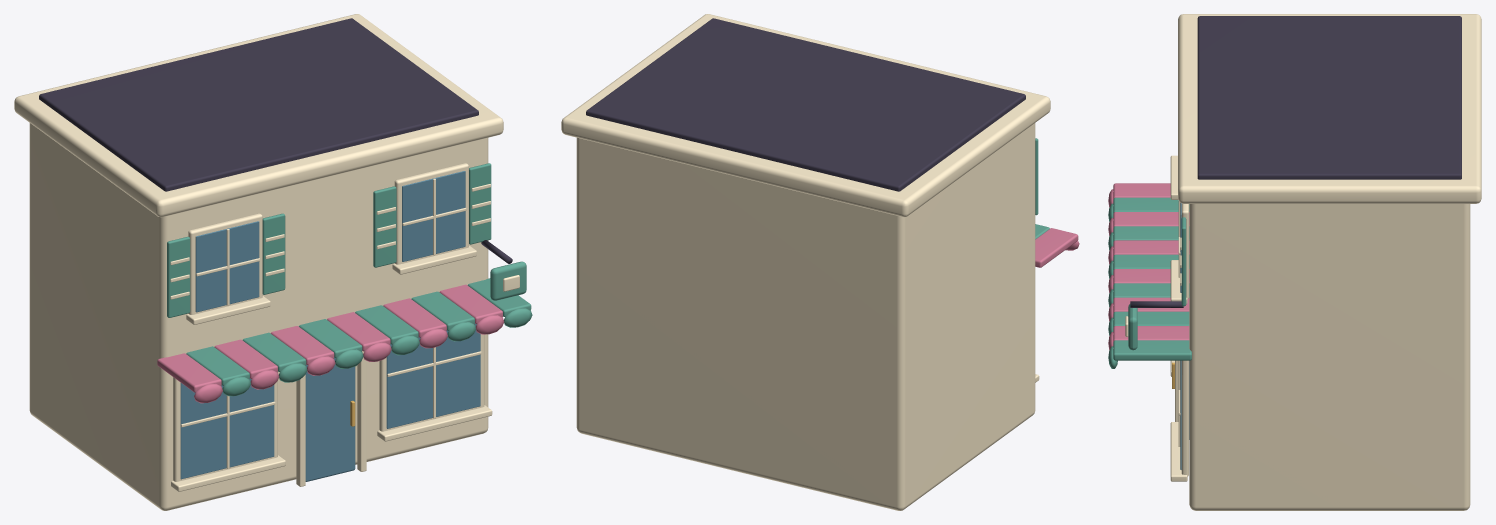
File: Garden_cafe.fbx
3 renders of one model, left to right at view 1: azimuth 30°, elevation 25°; view 2: azimuth 150°, elevation 25°; view 3: azimuth 270°, elevation 25°, orthographic. The views are drawn at different scales.
Parts seen in each view (by area): view 1: Town_Garden_cafe Shop walls.001, Town_Garden_cafe Roof inset.001, Town_Garden_cafe Shop cornice.001, Town_Garden_cafe Window glass.004, Town_Garden_cafe Window glass.006, Town_Garden_cafe Shop door.001, Town_Garden_cafe Window glass.005, Town_Garden_cafe Window glass.007, Town_Garden_cafe Shutter.004, Town_Garden_cafe Shutter.005, Town_Garden_cafe Shutter.006, Town_Garden_cafe Shutter.007 (+23 smaller); view 2: Town_Garden_cafe Shop walls.001, Town_Garden_cafe Roof inset.001, Town_Garden_cafe Shop cornice.001, Town_Garden_cafe Striped awning.012; view 3: Town_Garden_cafe Shop walls.001, Town_Garden_cafe Roof inset.001, Town_Garden_cafe Shop cornice.001, Town_Garden_cafe Striped awning.023, Town_Garden_cafe Striped awning.016, Town_Garden_cafe Striped awning.014, Town_Garden_cafe Striped awning.015, Town_Garden_cafe Striped awning.021, Town_Garden_cafe Striped awning.022, Town_Garden_cafe Striped awning.013, Town_Garden_cafe Striped awning.017, Town_Garden_cafe Window surround.006 (+8 smaller).
Part boxes in pixels (left/top/right/bottom): Town_Garden_cafe Shop walls.001: left=29, top=123, right=488, bottom=510; Town_Garden_cafe Roof inset.001: left=39, top=18, right=478, bottom=191; Town_Garden_cafe Shop cornice.001: left=14, top=14, right=503, bottom=217; Town_Garden_cafe Window glass.004: left=180, top=378, right=274, bottom=479; Town_Garden_cafe Window glass.006: left=386, top=323, right=480, bottom=428; Town_Garden_cafe Shop door.001: left=305, top=358, right=355, bottom=481; Town_Garden_cafe Window glass.005: left=195, top=221, right=259, bottom=312; Town_Garden_cafe Window glass.007: left=402, top=171, right=465, bottom=261; Town_Garden_cafe Shutter.004: left=167, top=236, right=190, bottom=317; Town_Garden_cafe Shutter.005: left=262, top=213, right=285, bottom=294; Town_Garden_cafe Shutter.006: left=373, top=186, right=396, bottom=267; Town_Garden_cafe Shutter.007: left=469, top=163, right=491, bottom=244; Town_Garden_cafe Shop walls.001: left=576, top=123, right=1035, bottom=510; Town_Garden_cafe Roof inset.001: left=586, top=18, right=1025, bottom=191; Town_Garden_cafe Shop cornice.001: left=561, top=14, right=1050, bottom=217; Town_Garden_cafe Striped awning.012: left=1035, top=228, right=1078, bottom=267; Town_Garden_cafe Shop walls.001: left=1189, top=204, right=1470, bottom=510; Town_Garden_cafe Roof inset.001: left=1197, top=16, right=1461, bottom=179; Town_Garden_cafe Shop cornice.001: left=1178, top=14, right=1481, bottom=203; Town_Garden_cafe Striped awning.023: left=1113, top=340, right=1191, bottom=360; Town_Garden_cafe Striped awning.016: left=1113, top=240, right=1189, bottom=256; Town_Garden_cafe Striped awning.014: left=1113, top=212, right=1189, bottom=227; Town_Garden_cafe Striped awning.015: left=1113, top=226, right=1189, bottom=241; Town_Garden_cafe Striped awning.021: left=1113, top=311, right=1189, bottom=327; Town_Garden_cafe Striped awning.022: left=1113, top=326, right=1189, bottom=341; Town_Garden_cafe Striped awning.013: left=1113, top=197, right=1189, bottom=213; Town_Garden_cafe Striped awning.017: left=1113, top=254, right=1189, bottom=270; Town_Garden_cafe Window surround.006: left=1181, top=360, right=1188, bottom=476.
Bounding box in the file's own units: 740 × 658 × 664.
